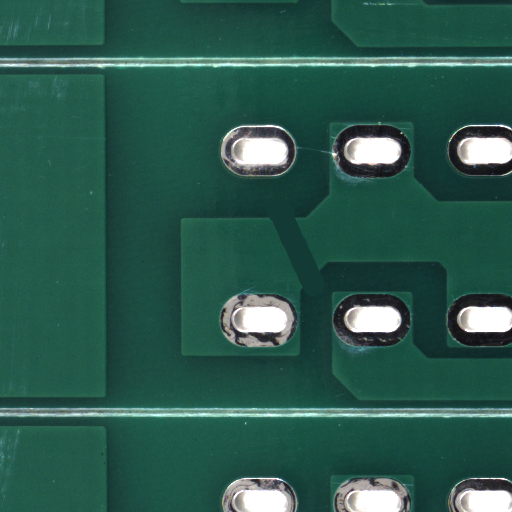Open_circuit: (295, 252, 358, 335)
